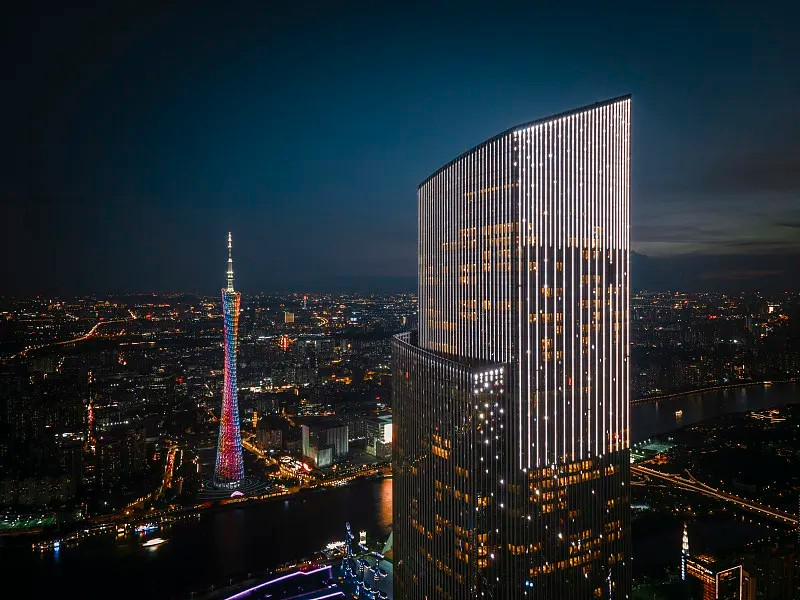Canton: (210, 232, 245, 490)
